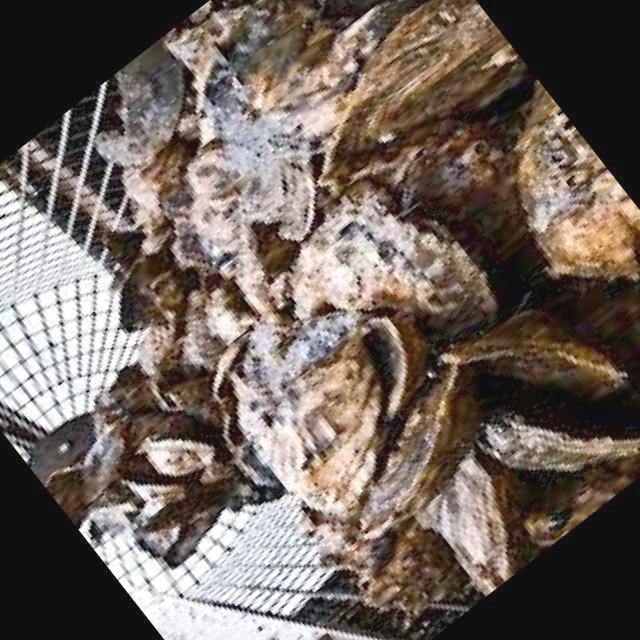Oyster-Closed: (230, 312, 426, 517), (321, 0, 525, 183), (289, 181, 496, 332), (516, 84, 640, 281), (359, 360, 480, 538), (441, 311, 626, 398), (418, 455, 512, 594), (478, 414, 640, 472), (118, 240, 178, 340), (102, 154, 192, 206), (85, 414, 125, 502), (178, 153, 250, 195), (138, 438, 214, 477), (279, 161, 315, 242), (122, 482, 184, 506)
Oyster-Open: (112, 376, 218, 412)
